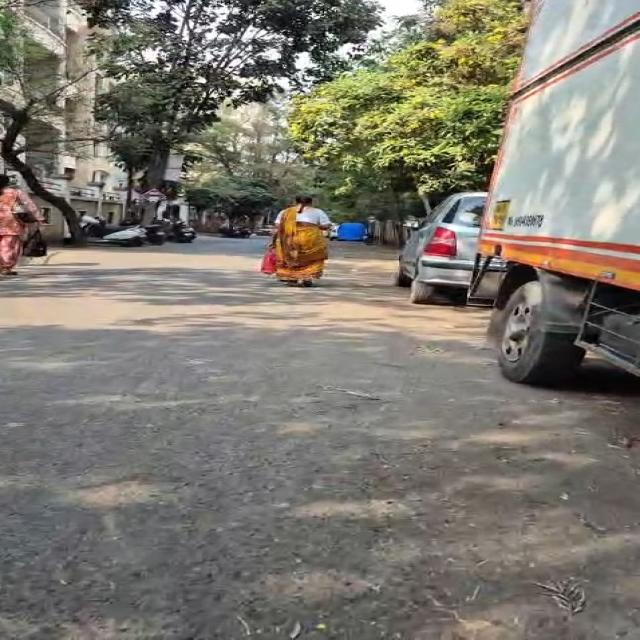obstacle: (470, 0, 639, 385), (0, 103, 84, 244), (3, 154, 85, 244), (141, 143, 170, 191), (124, 165, 135, 219)
vehical: (395, 192, 487, 303), (81, 216, 147, 246), (163, 219, 196, 243), (255, 226, 274, 236)
